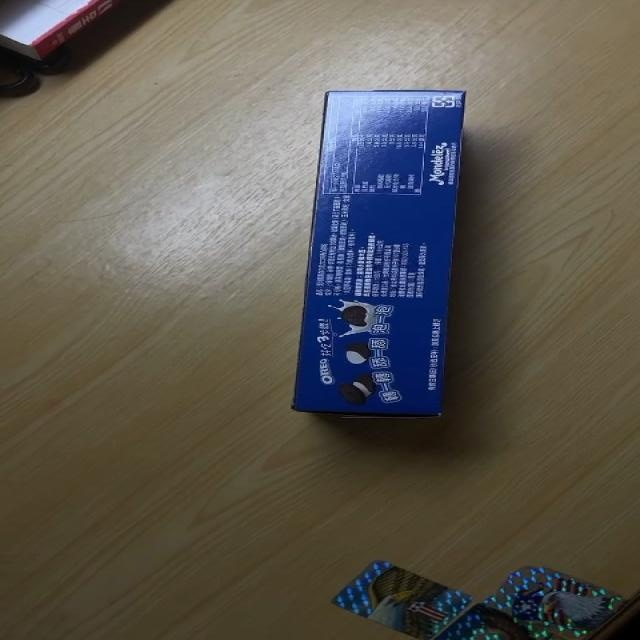Oreo: (286, 89, 464, 417)
